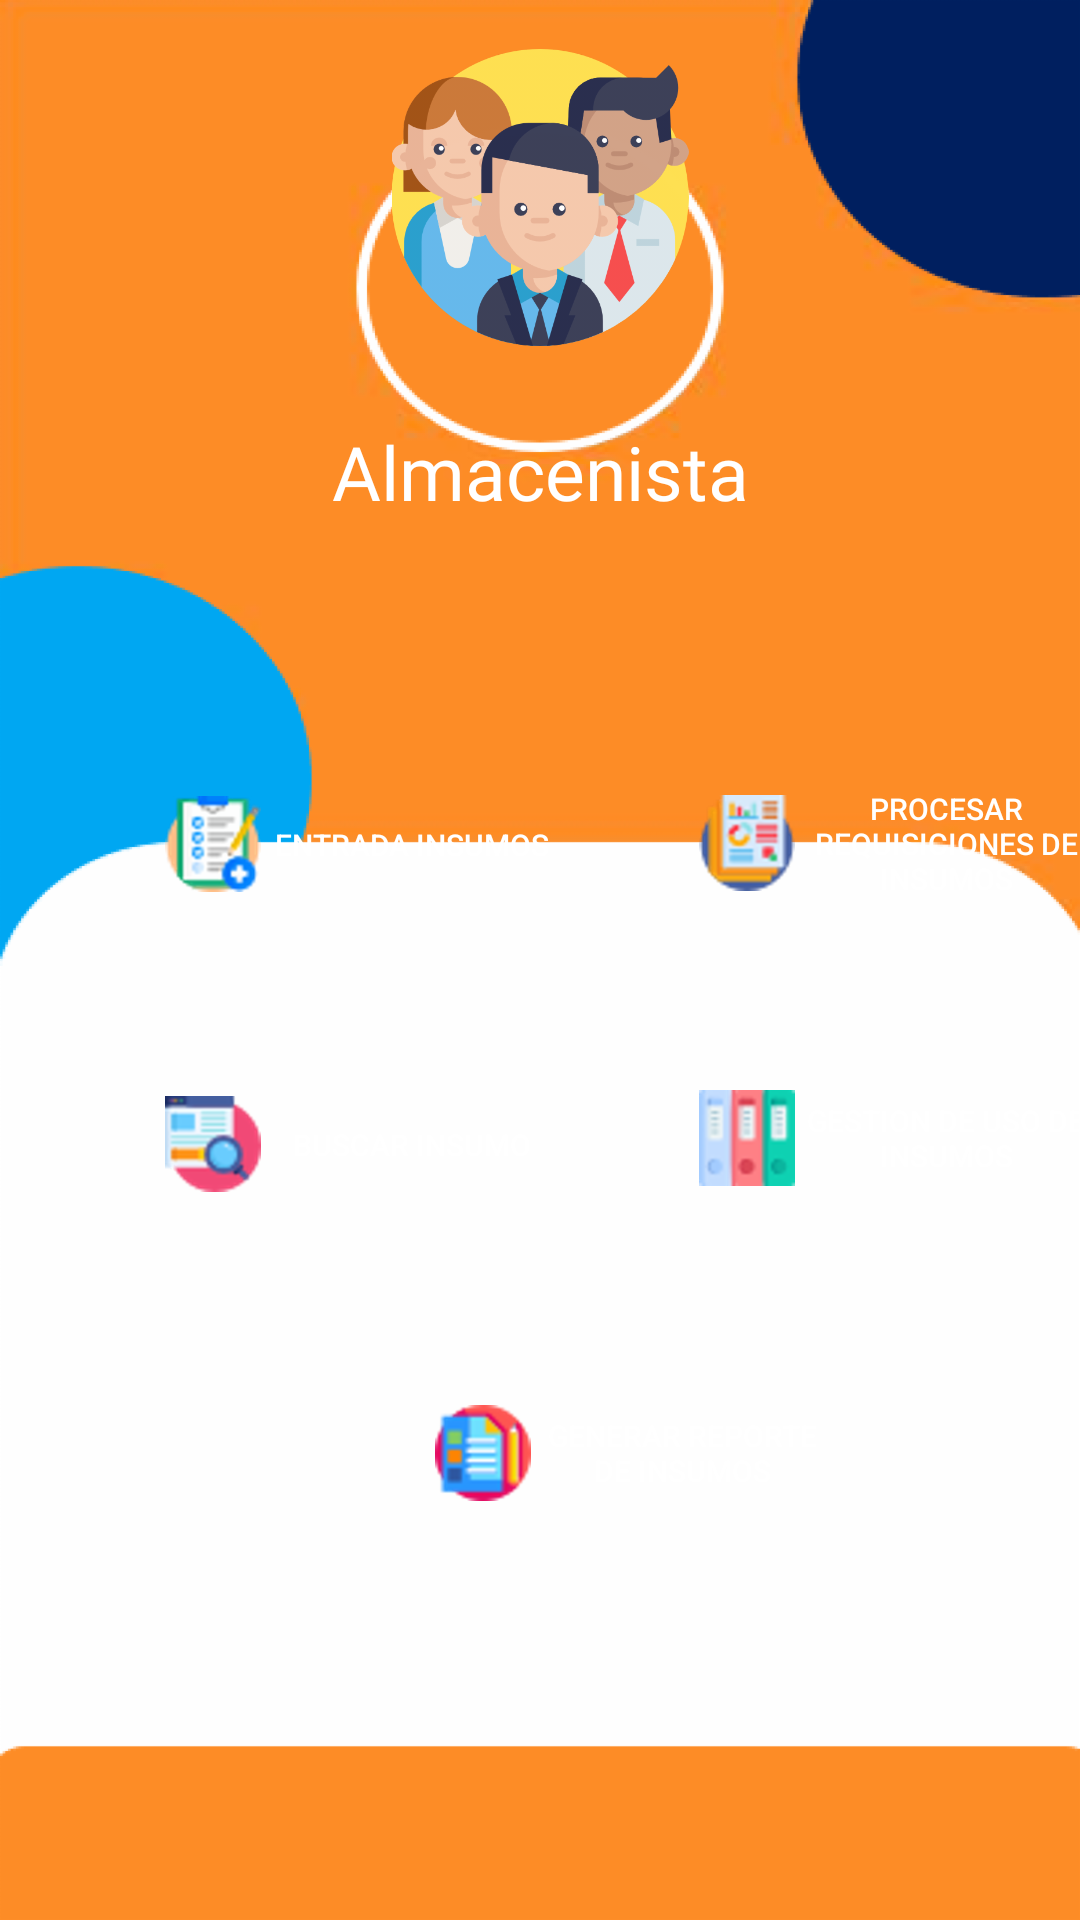

Where icons sit on this 1080 x 1920 app screen, as (x1, y1, x2, y2):
teamwork: (375, 49, 705, 346)
